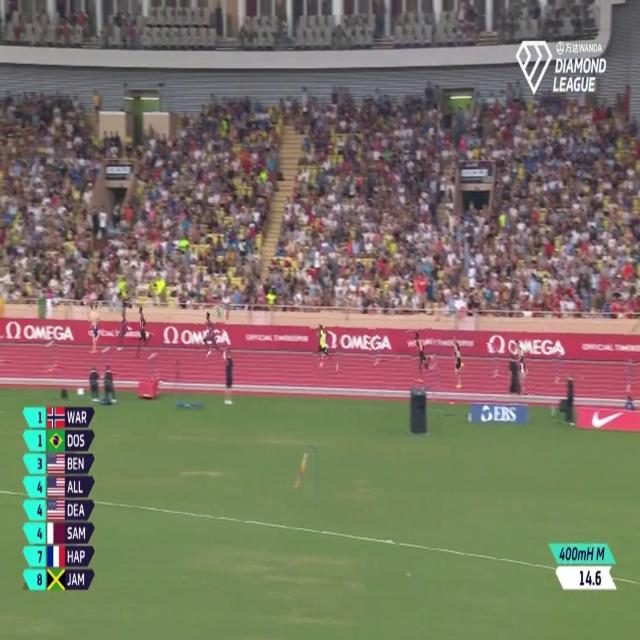athlete: (408, 327, 440, 392), (195, 305, 228, 368), (311, 319, 342, 378), (510, 332, 533, 396), (115, 299, 132, 356), (88, 300, 101, 366), (448, 334, 461, 390), (138, 302, 150, 362)
hurdle: (487, 343, 502, 387), (368, 327, 383, 370), (552, 347, 568, 387), (43, 339, 61, 373), (146, 348, 162, 385), (624, 356, 637, 401), (98, 342, 111, 378)
